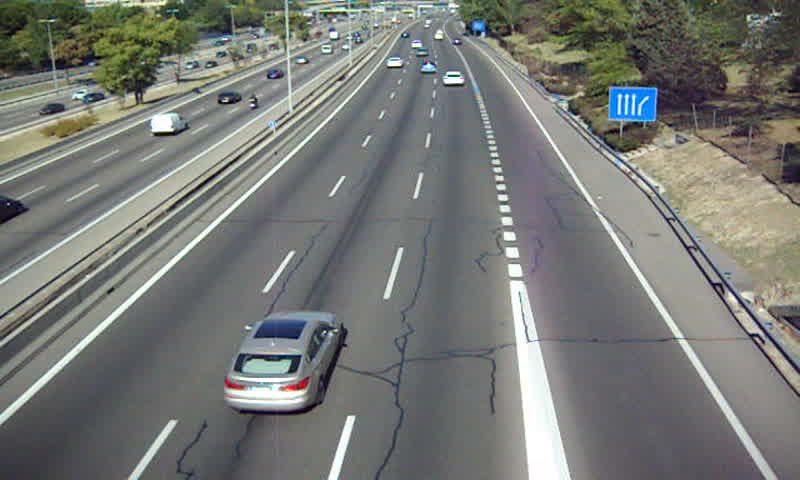car: (224, 313, 344, 413), (442, 70, 466, 87), (386, 56, 405, 69), (420, 59, 436, 74)
